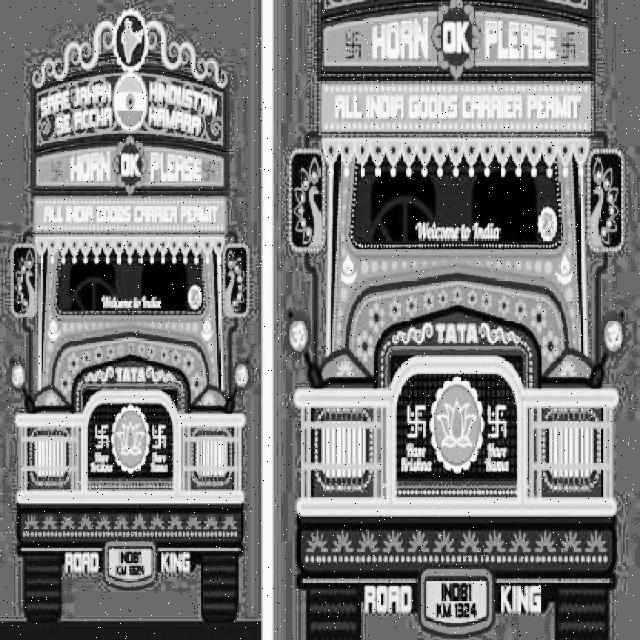HCV: (303, 18, 599, 624), (19, 34, 236, 628)
